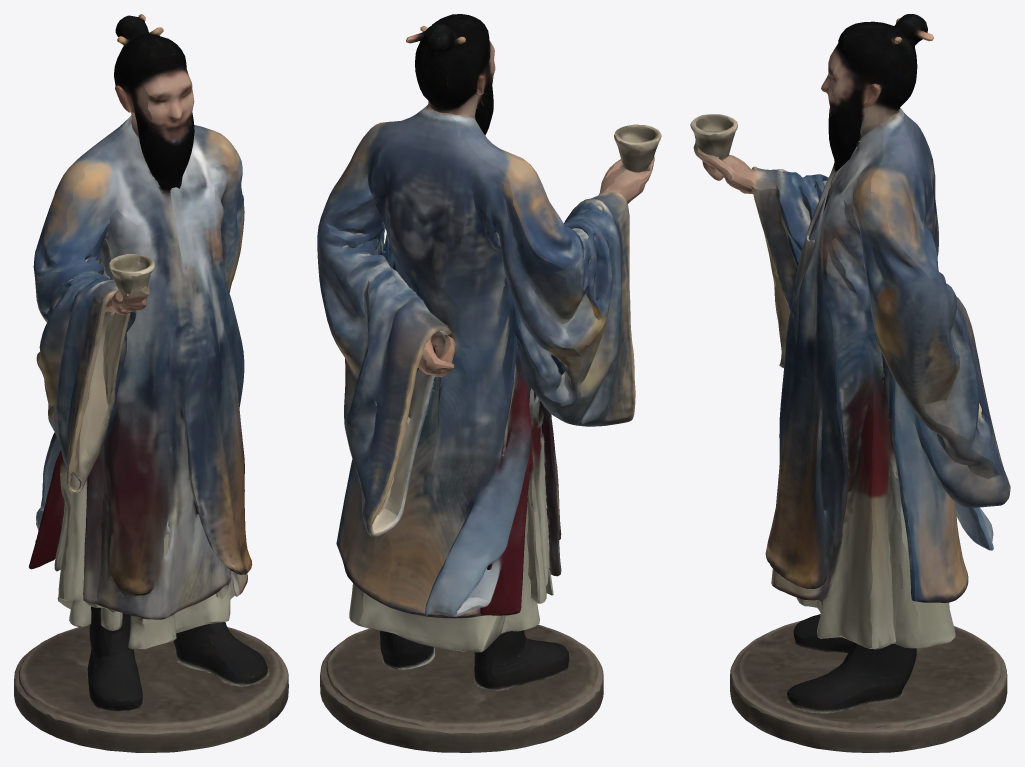
The model's file is poet_stand_diorama.glb.
3 views of the same model, side by side, from view 1: azimuth 30°, elevation 25°; view 2: azimuth 150°, elevation 25°; view 3: azimuth 270°, elevation 25° (orthographic). The views are drawn at different scales.
Visible parts, largest first — view 1: geometry_0; view 2: geometry_0; view 3: geometry_0.
Boxes of the visible parts, x1,y1,x2,y2 form: geometry_0: (14,14,288,752); geometry_0: (317,14,661,752); geometry_0: (690,14,1010,752).
Size of the model in its own units: 0.1244 by 0.32 by 0.1368.
1 material, 1 textured.
